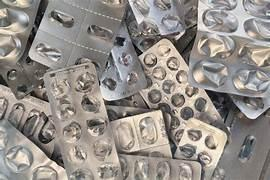pill_Strip: (44, 63, 121, 178), (139, 39, 220, 143), (0, 119, 67, 179), (0, 85, 54, 156), (174, 118, 226, 178)
